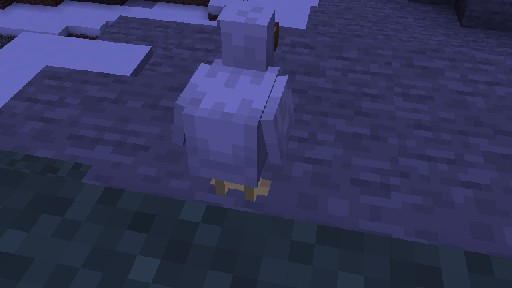chicken: (171, 3, 295, 201)
